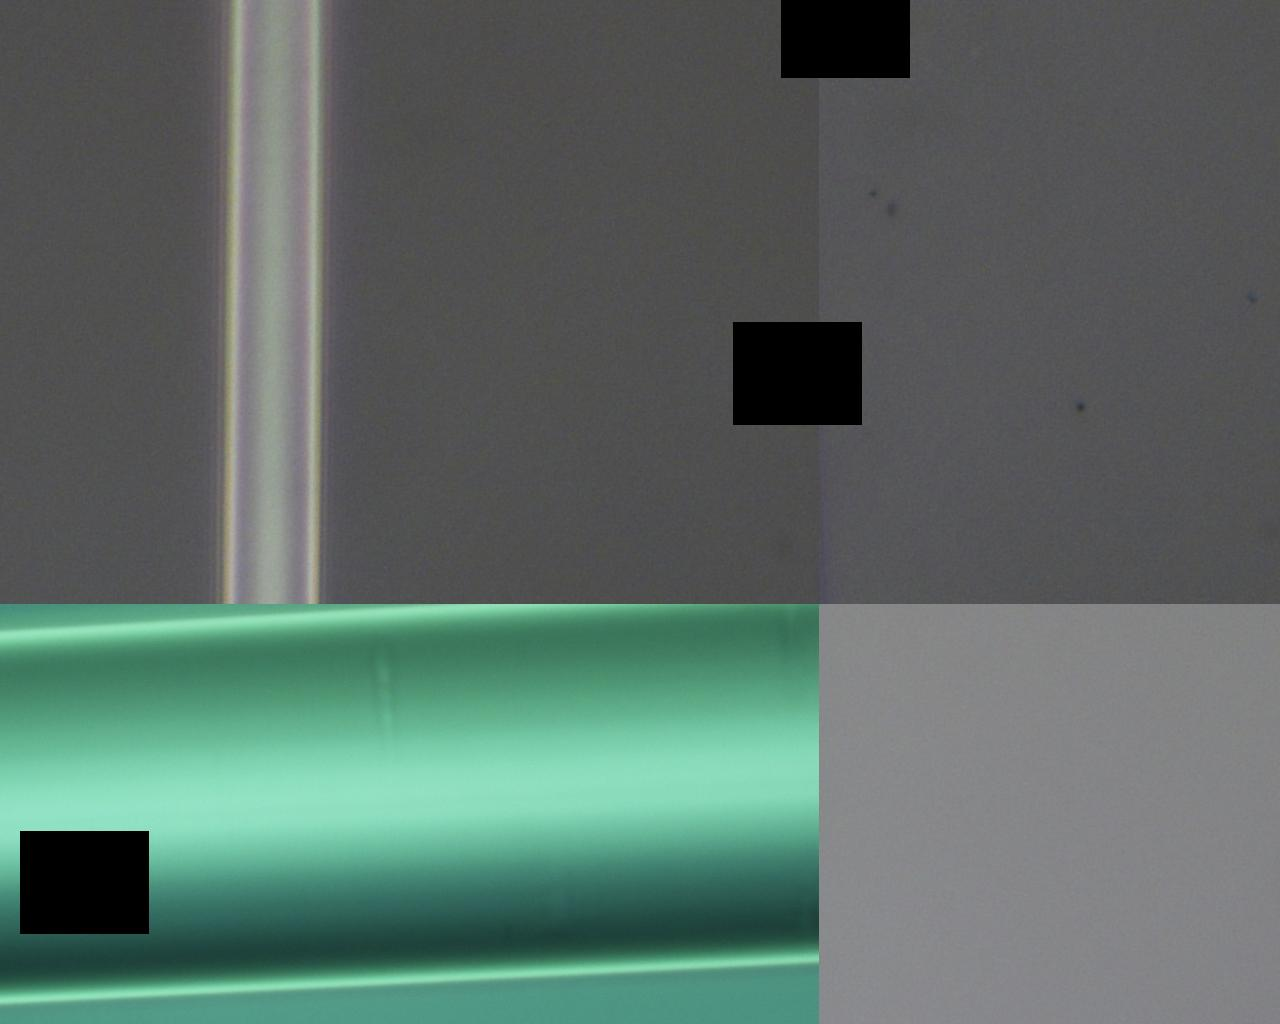fiber: (550, 0, 953, 609), (645, 614, 1280, 857), (0, 199, 274, 614), (178, 632, 348, 1024)
